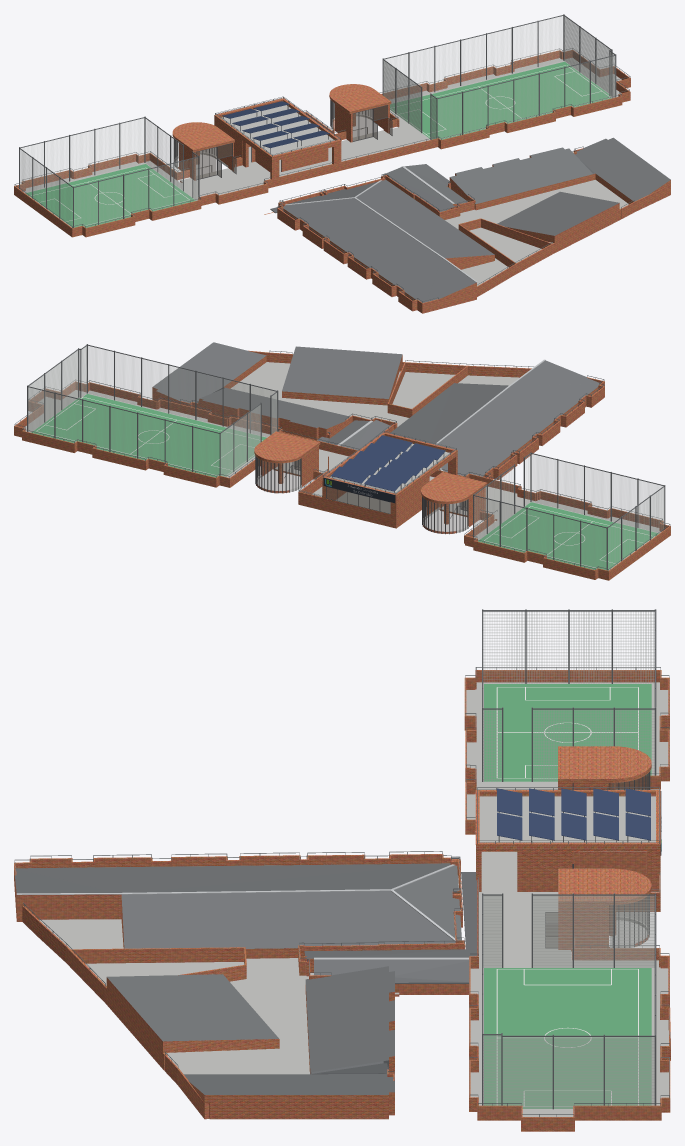
File: floor-6.glb
The picture shows the model from 3 angles, top to bottom: view 1: azimuth 30°, elevation 25°; view 2: azimuth 150°, elevation 25°; view 3: azimuth 270°, elevation 25°; orthographic projection. The views are drawn at different scales.
Parts seen in each view (by area): view 1: P6_A_Canchas, P6_B_Tejados, P6_Cubierta, P6_Bordillo_A, P6_Bordillo_B, P6_A_Nucleo, P6_Fachada_Compartida, P6_Barandas_Bajas, P6_A_Escaleras_Acceso; view 2: P6_A_Canchas, P6_B_Tejados, P6_Cubierta, P6_Fachada_Compartida, P6_Bordillo_A, P6_A_Nucleo, P6_Bordillo_B, P6_Barandas_Bajas, P6_A_Escaleras_Acceso; view 3: P6_B_Tejados, P6_A_Canchas, P6_Cubierta, P6_A_Nucleo, P6_Bordillo_B, P6_Bordillo_A, P6_Fachada_Compartida, P6_Barandas_Bajas, P6_A_Escaleras_Acceso.
Boxes of the visible parts, bbox=[...] form: P6_A_Canchas: bbox=[19, 14, 616, 227]; P6_B_Tejados: bbox=[283, 137, 670, 302]; P6_Cubierta: bbox=[14, 58, 670, 313]; P6_Bordillo_A: bbox=[14, 50, 630, 235]; P6_Bordillo_B: bbox=[277, 148, 670, 312]; P6_A_Nucleo: bbox=[214, 96, 437, 214]; P6_Fachada_Compartida: bbox=[172, 84, 392, 180]; P6_Barandas_Bajas: bbox=[14, 48, 634, 302]; P6_A_Escaleras_Acceso: bbox=[179, 103, 389, 180]; P6_A_Canchas: bbox=[27, 344, 665, 570]; P6_B_Tejados: bbox=[152, 342, 600, 477]; P6_Cubierta: bbox=[14, 362, 670, 580]; P6_Fachada_Compartida: bbox=[254, 431, 487, 534]; P6_Bordillo_A: bbox=[14, 381, 670, 578]; P6_A_Nucleo: bbox=[279, 430, 464, 503]; P6_Bordillo_B: bbox=[152, 350, 604, 478]; P6_Barandas_Bajas: bbox=[14, 350, 670, 570]; P6_A_Escaleras_Acceso: bbox=[260, 446, 485, 526]; P6_B_Tejados: bbox=[15, 863, 477, 1103]; P6_A_Canchas: bbox=[482, 609, 656, 1109]; P6_Cubierta: bbox=[14, 682, 670, 1131]; P6_A_Nucleo: bbox=[475, 787, 661, 956]; P6_Bordillo_B: bbox=[14, 854, 465, 1116]; P6_Bordillo_A: bbox=[464, 670, 670, 1129]; P6_Fachada_Compartida: bbox=[545, 746, 660, 948]; P6_Barandas_Bajas: bbox=[14, 667, 670, 1117]; P6_A_Escaleras_Acceso: bbox=[558, 783, 615, 949].
Size of the model in its own units: 79.03 by 9.63 by 49.01.
18 materials, 2 textured.
